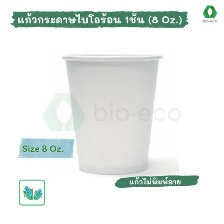paper_cup: (57, 46, 166, 179)
